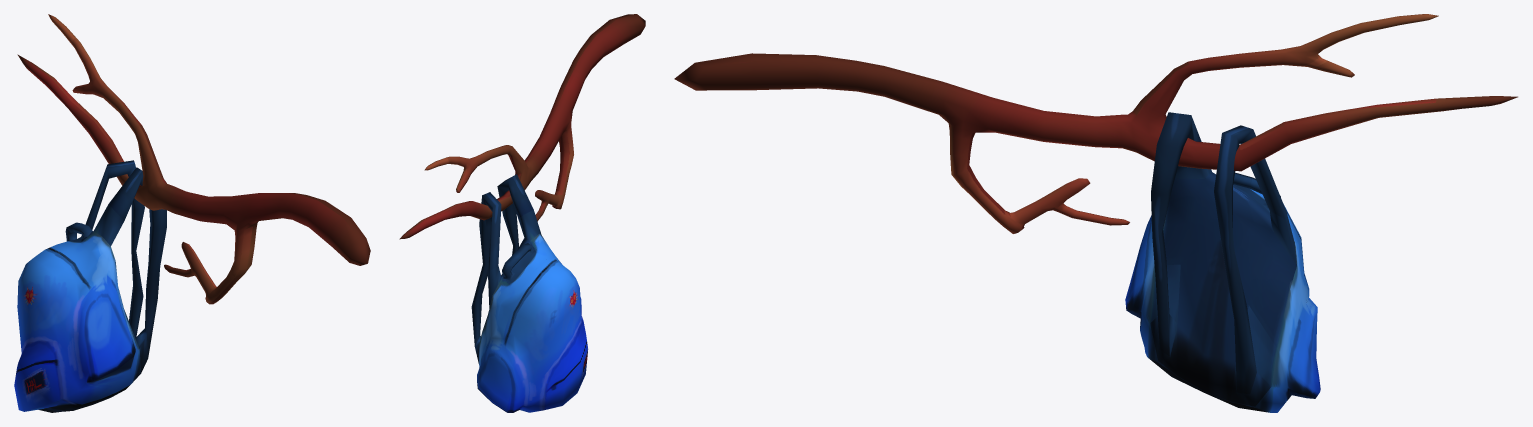
Rendered from bag and stick.fbx.
The picture shows the model from 3 angles, left to right: view 1: azimuth 30°, elevation 25°; view 2: azimuth 150°, elevation 25°; view 3: azimuth 270°, elevation 25°; orthographic projection. The views are drawn at different scales.
Parts seen in each view (by area): view 1: Cube.005, Cube.003; view 2: Cube.005, Cube.003; view 3: Cube.005, Cube.003.
Part boxes in pixels (left/top/right/bottom): Cube.005: left=14, top=160, right=166, bottom=412; Cube.003: left=17, top=14, right=370, bottom=304; Cube.005: left=471, top=174, right=588, bottom=412; Cube.003: left=399, top=14, right=645, bottom=239; Cube.005: left=1125, top=112, right=1320, bottom=412; Cube.003: left=674, top=14, right=1517, bottom=233.
Size of the model in its own units: 144 by 300 by 537.
